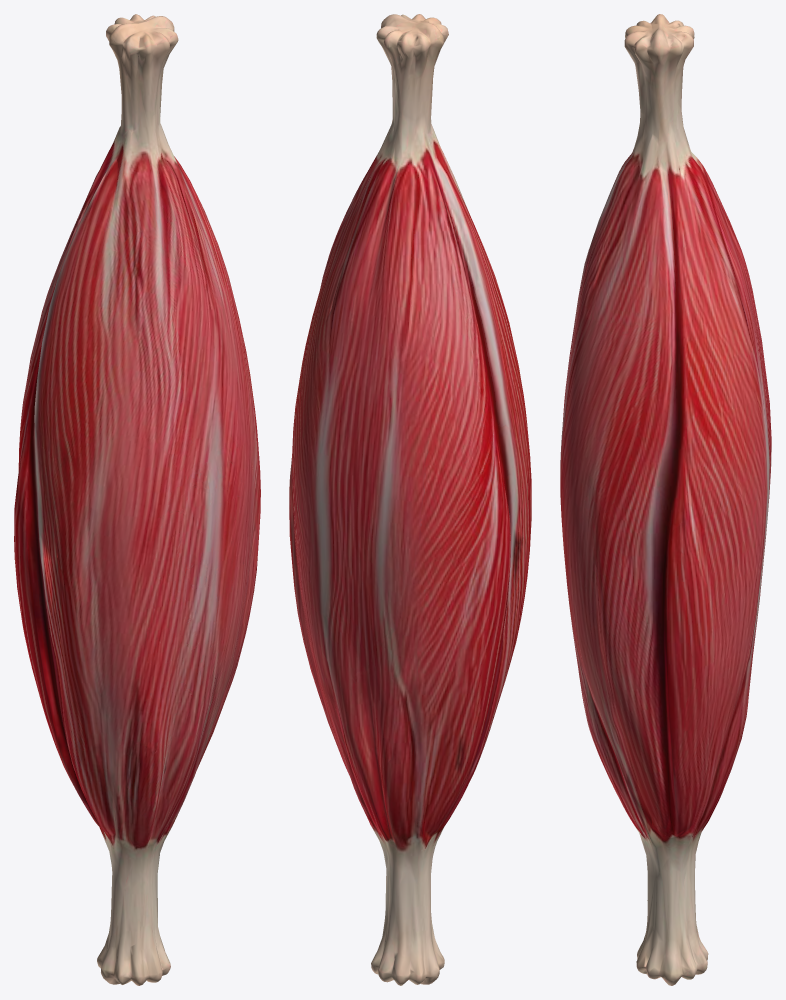
File: hypothenar.glb
The picture shows the model from 3 angles, left to right: view 1: azimuth 30°, elevation 25°; view 2: azimuth 150°, elevation 25°; view 3: azimuth 270°, elevation 25°; orthographic projection.
Visible parts, largest first — view 1: hypothenar; view 2: hypothenar; view 3: hypothenar.
Boxes of the visible parts, x1,y1,x2,y2 form: hypothenar: (14, 14, 260, 985); hypothenar: (289, 14, 531, 985); hypothenar: (560, 14, 771, 985).
Bounding box in the file's own units: 0.2357 × 1 × 0.2009.
Materials: 1 (1 with a texture image).
